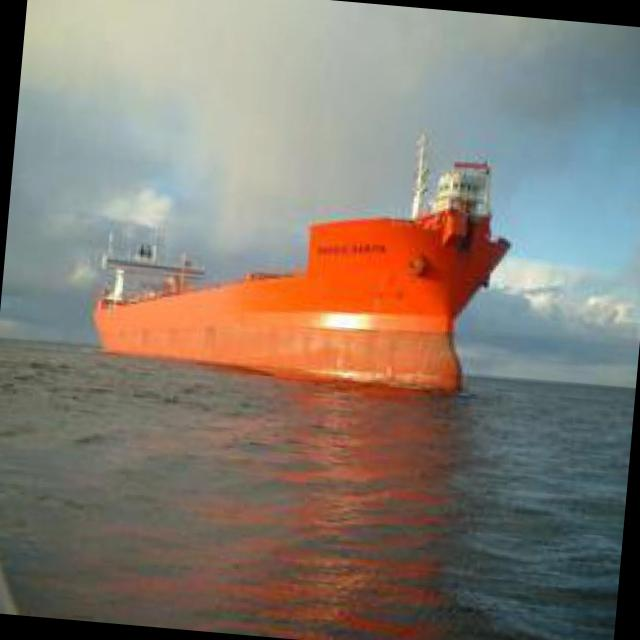boat: (76, 215, 484, 400)
